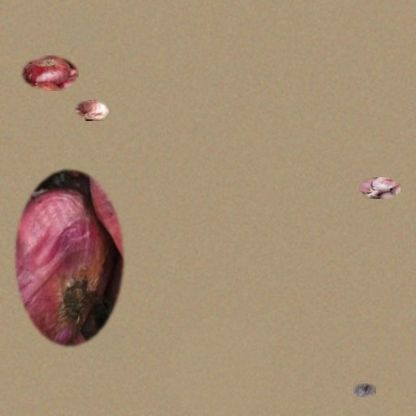healthy: (11, 164, 127, 351), (20, 55, 79, 91)
rotten: (75, 100, 109, 121), (353, 384, 376, 397)
sprouted: (358, 177, 401, 199)
